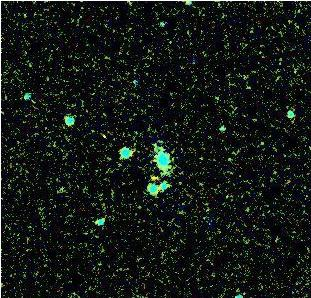star: (136, 165, 166, 195)
